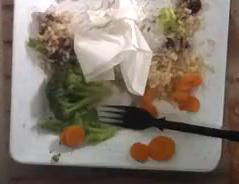broccoli: (39, 64, 117, 144)
carrots: (169, 72, 203, 112), (131, 136, 175, 160), (142, 86, 160, 116), (60, 126, 85, 145)
rice_mix: (141, 0, 201, 87), (28, 12, 78, 65)
